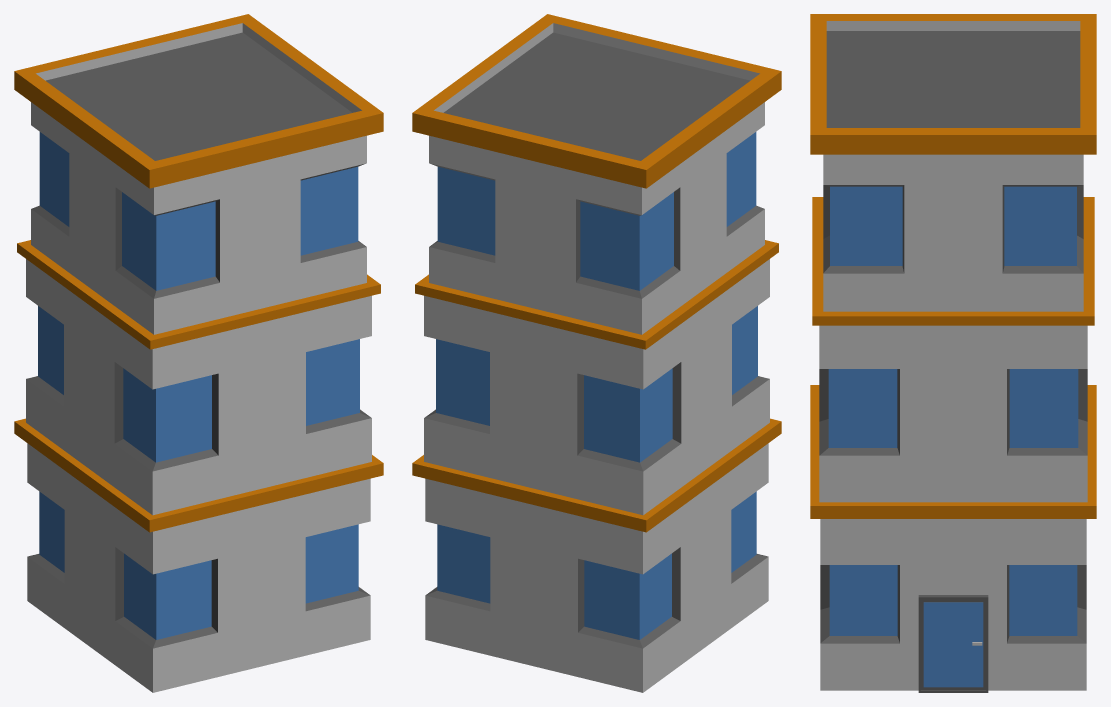
File: WHITE BUILDING_Material.017.glb
3 views of the same model, side by side, from view 1: azimuth 30°, elevation 25°; view 2: azimuth 150°, elevation 25°; view 3: azimuth 270°, elevation 25° (orthographic). The views are drawn at different scales.
Parts seen in each view (by area): view 1: WHITE BUILDING_Material.017_0; view 2: WHITE BUILDING_Material.017_0; view 3: WHITE BUILDING_Material.017_0.
Part boxes in pixels (x1,y1,x2,y2): WHITE BUILDING_Material.017_0: (14, 14, 383, 692); WHITE BUILDING_Material.017_0: (412, 14, 781, 692); WHITE BUILDING_Material.017_0: (810, 14, 1096, 692).
Bounding box in the file's own units: 2.23 × 4.81 × 2.23.
1 material, 1 textured.
